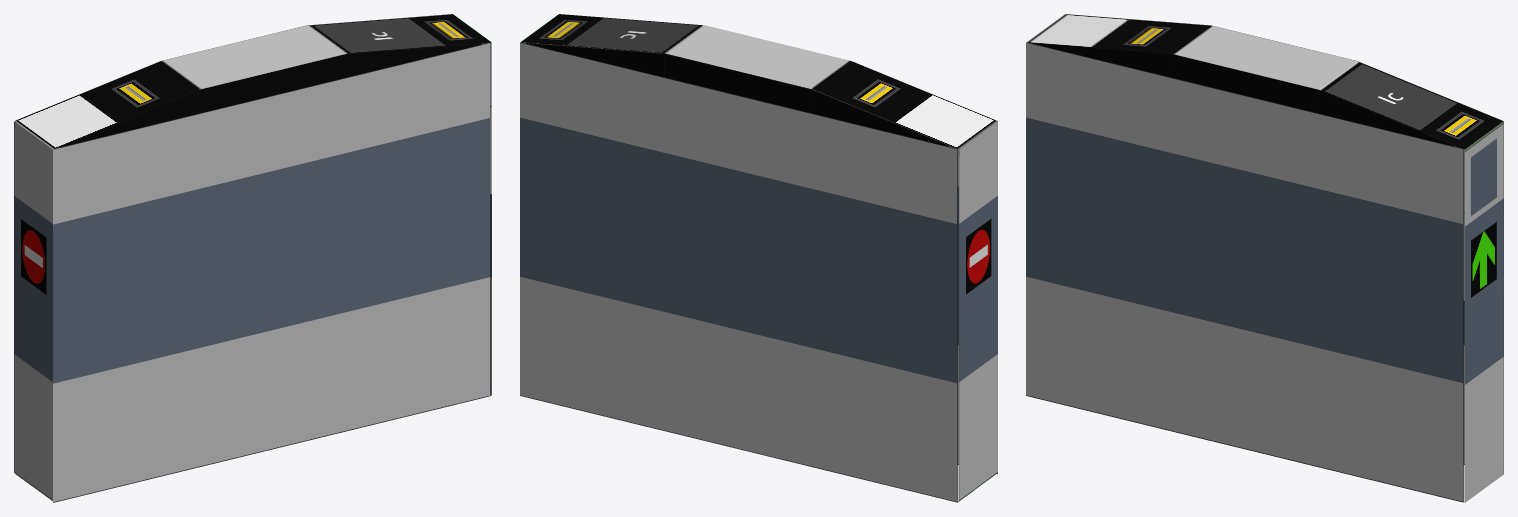
File: turnstile_o.obj
The picture shows the model from 3 angles, left to right: view 1: azimuth 30°, elevation 25°; view 2: azimuth 150°, elevation 25°; view 3: azimuth 330°, elevation 25°; orthographic projection.
Parts seen in each view (by area): view 1: machine_machine_cube_machine_machine_cube_Material.001; view 2: machine_machine_cube_machine_machine_cube_Material.001; view 3: machine_machine_cube_machine_machine_cube_Material.001.
Part boxes in pixels (left/top/right/bottom): machine_machine_cube_machine_machine_cube_Material.001: left=14, top=14, right=491, bottom=502; machine_machine_cube_machine_machine_cube_Material.001: left=520, top=14, right=997, bottom=502; machine_machine_cube_machine_machine_cube_Material.001: left=1026, top=14, right=1503, bottom=502.
Bounding box in the file's own units: 1.3 × 1.07 × 0.2.
